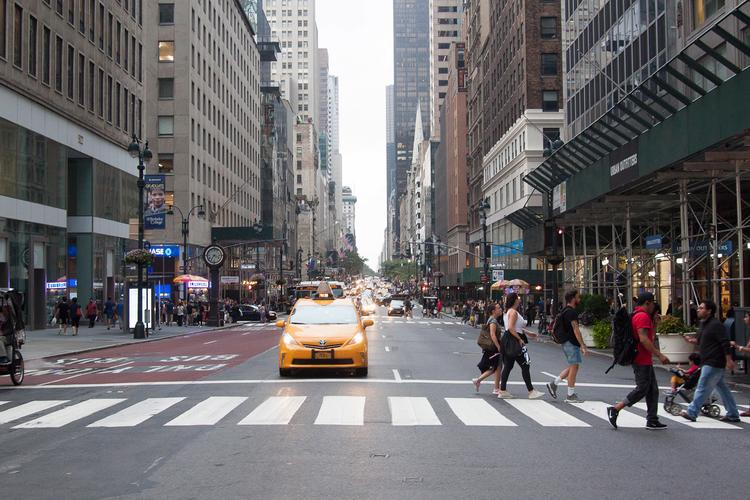bicycle: (663, 376, 734, 420)
bus: (288, 280, 342, 312)
car: (277, 299, 370, 377), (233, 304, 263, 322), (356, 297, 376, 324), (387, 299, 409, 316)
person: (606, 295, 672, 430), (676, 301, 744, 423), (488, 295, 540, 398), (549, 291, 590, 403), (472, 302, 507, 398), (87, 299, 115, 328), (53, 299, 70, 334), (68, 299, 82, 334), (103, 297, 117, 328), (421, 295, 438, 318), (86, 299, 99, 328), (174, 301, 188, 326), (197, 296, 209, 325), (188, 301, 200, 326)
